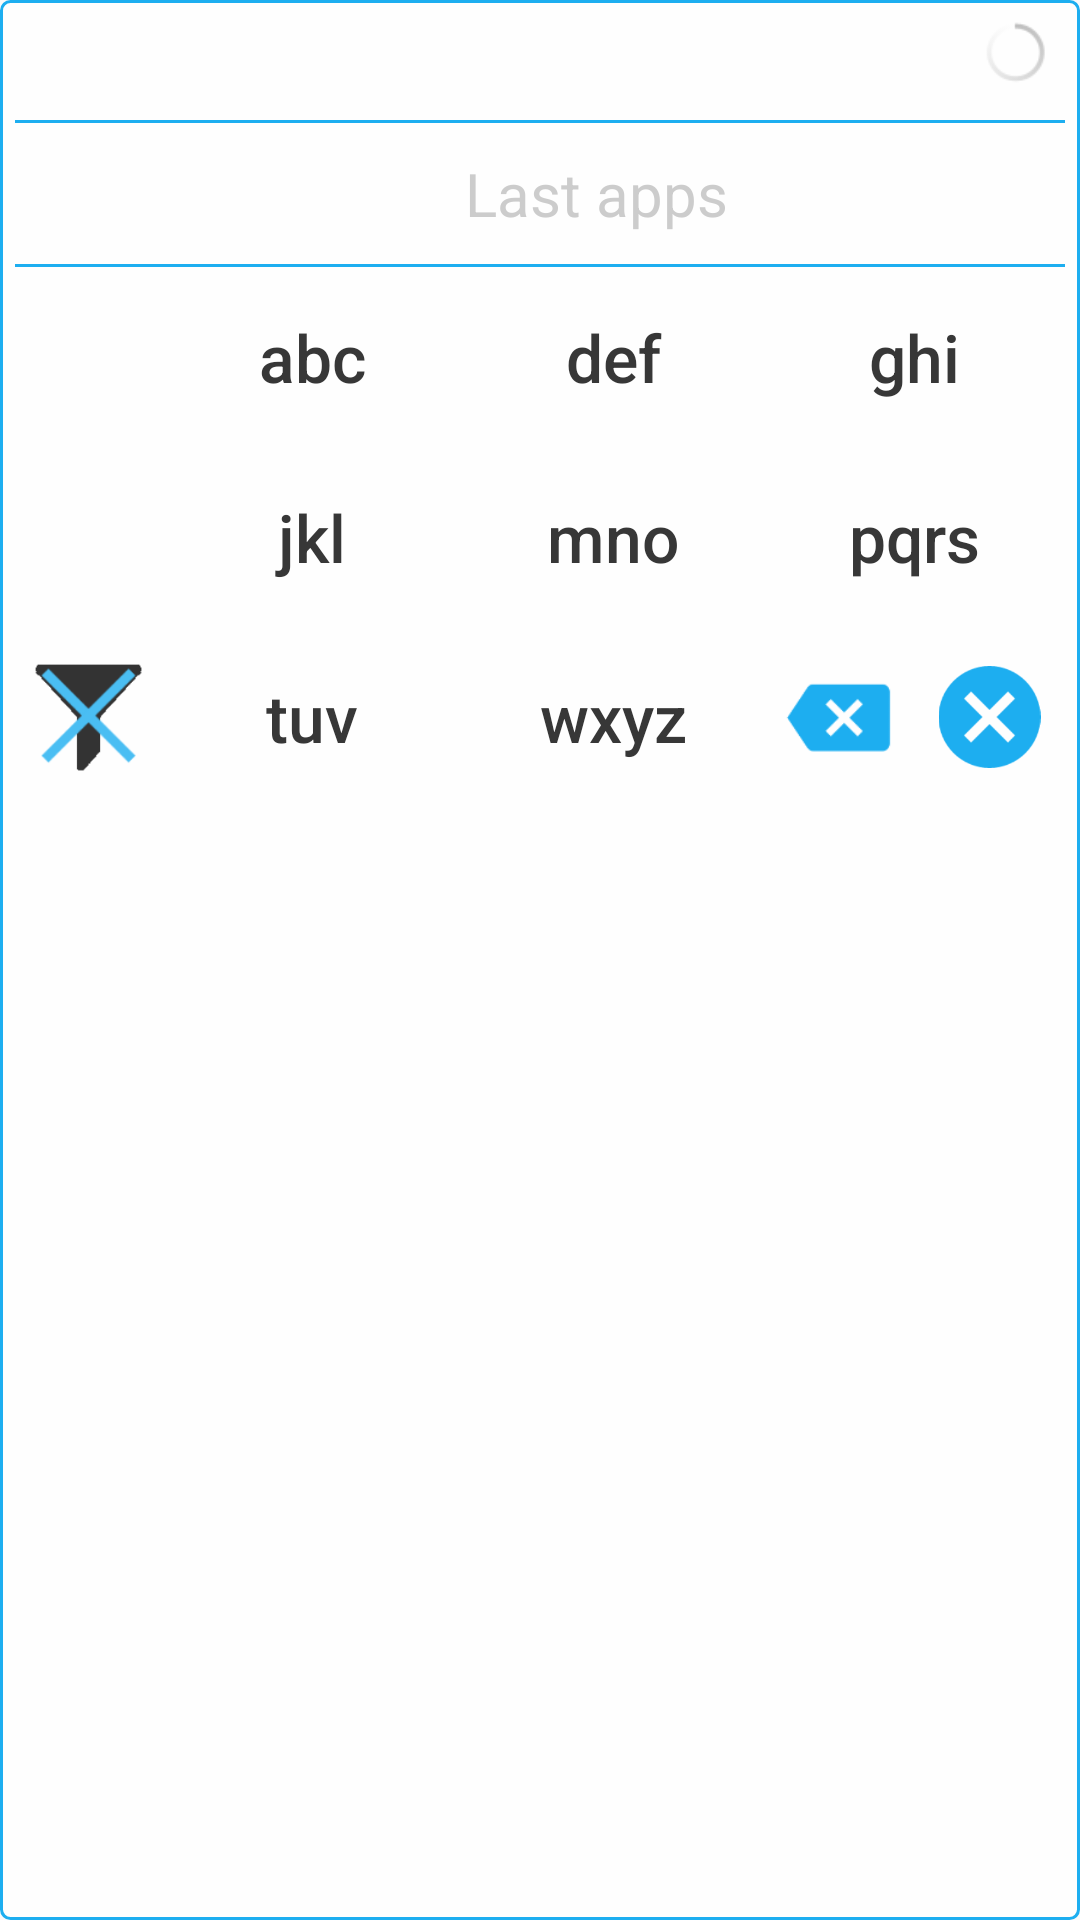

Where to tap for icons on this 1080x1920 app screen, as (x=x, y=y):
backspace arrow: (x=839, y=718)
cancel: (x=990, y=717)
filter all theme: (x=88, y=717)
